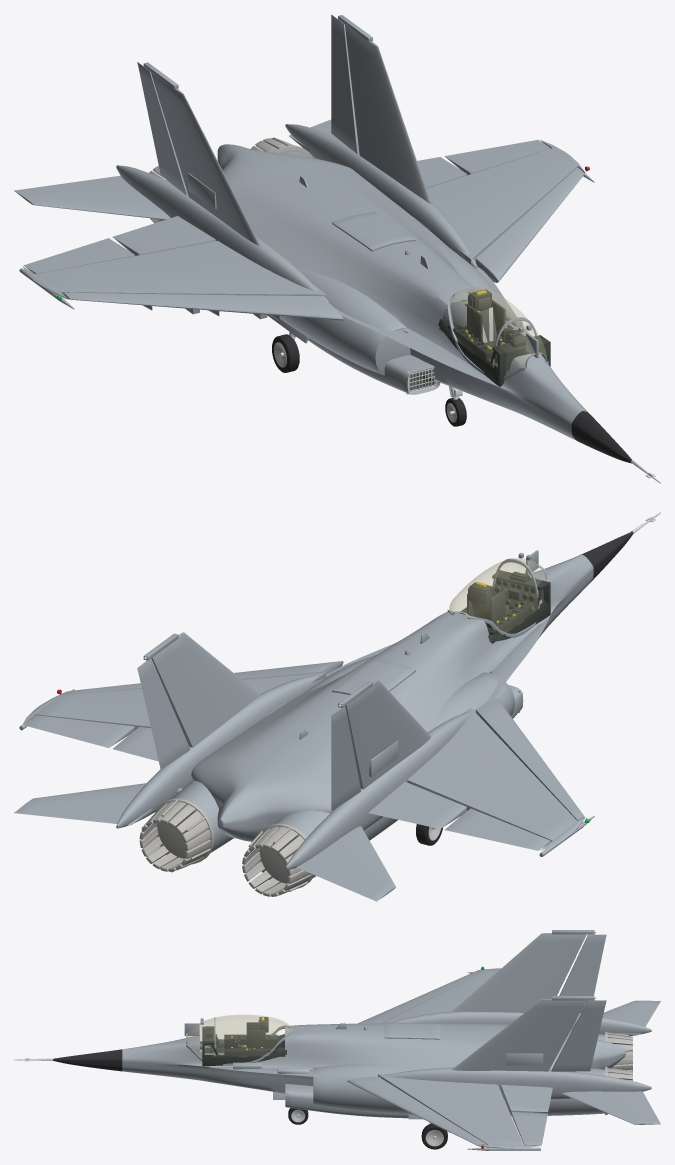
The model's file is mig29.glb.
The picture shows the model from 3 angles, top to bottom: view 1: azimuth 30°, elevation 25°; view 2: azimuth 150°, elevation 25°; view 3: azimuth 270°, elevation 25°; orthographic projection. The views are drawn at different scales.
Visible parts, largest first — view 1: Fuselage, Wing_R, Wing_L, Fin_L, Fin_R, Canopy_Glass, Slat_R, Stabilator_R, Slat_L, Rudder_L, Flap_R, Rudder_R (+8 smaller); view 2: Fuselage, Wing_R, Fin_L, Fin_R, Canopy_Glass, Nozzle_L, Wing_L, Stabilator_R, Nozzle_R, Stabilator_L, Slat_R, Rudder_L (+12 smaller); view 3: Fuselage, Fin_R, Fin_L, Wing_L, Canopy_Glass, Rudder_L, Stabilator_L, Slat_L, Rudder_R, Wing_R, Flap_L, Cockpit_Tub (+10 smaller).
Part boxes in pixels (<box>): Fuselage: <box>116,124,660,483</box>; Wing_R: <box>19,240,326,309</box>; Wing_L: <box>413,140,594,264</box>; Fin_L: <box>338,15,431,203</box>; Fin_R: <box>143,62,260,245</box>; Canopy_Glass: <box>449,287,546,375</box>; Slat_R: <box>63,292,343,320</box>; Stabilator_R: <box>14,175,170,219</box>; Slat_L: <box>476,167,584,282</box>; Rudder_L: <box>331,14,359,153</box>; Flap_R: <box>112,216,215,255</box>; Rudder_R: <box>137,62,187,195</box>; Fuselage: <box>116,512,660,877</box>; Wing_R: <box>407,708,594,856</box>; Fin_L: <box>143,632,259,747</box>; Fin_R: <box>338,679,431,789</box>; Canopy_Glass: <box>449,558,546,631</box>; Nozzle_L: <box>139,798,214,872</box>; Wing_L: <box>19,672,326,730</box>; Stabilator_R: <box>296,826,395,901</box>; Nozzle_R: <box>242,823,314,896</box>; Stabilator_L: <box>14,783,182,825</box>; Slat_R: <box>476,699,584,820</box>; Rudder_L: <box>137,659,190,769</box>; Fuselage: <box>14,1011,651,1123</box>; Fin_R: <box>452,930,595,1012</box>; Fin_L: <box>452,996,595,1071</box>; Wing_L: <box>378,1074,540,1150</box>; Canopy_Glass: <box>186,1015,291,1057</box>; Rudder_L: <box>551,1000,606,1071</box>; Stabilator_L: <box>561,1091,660,1124</box>; Slat_L: <box>347,1076,486,1145</box>; Rudder_R: <box>559,934,606,1013</box>; Wing_R: <box>383,966,500,1023</box>; Flap_L: <box>500,1084,552,1113</box>; Cockpit_Tub: <box>202,1026,286,1066</box>.
Size of the model in its own units: 11.4 by 4.72 by 17.3.
